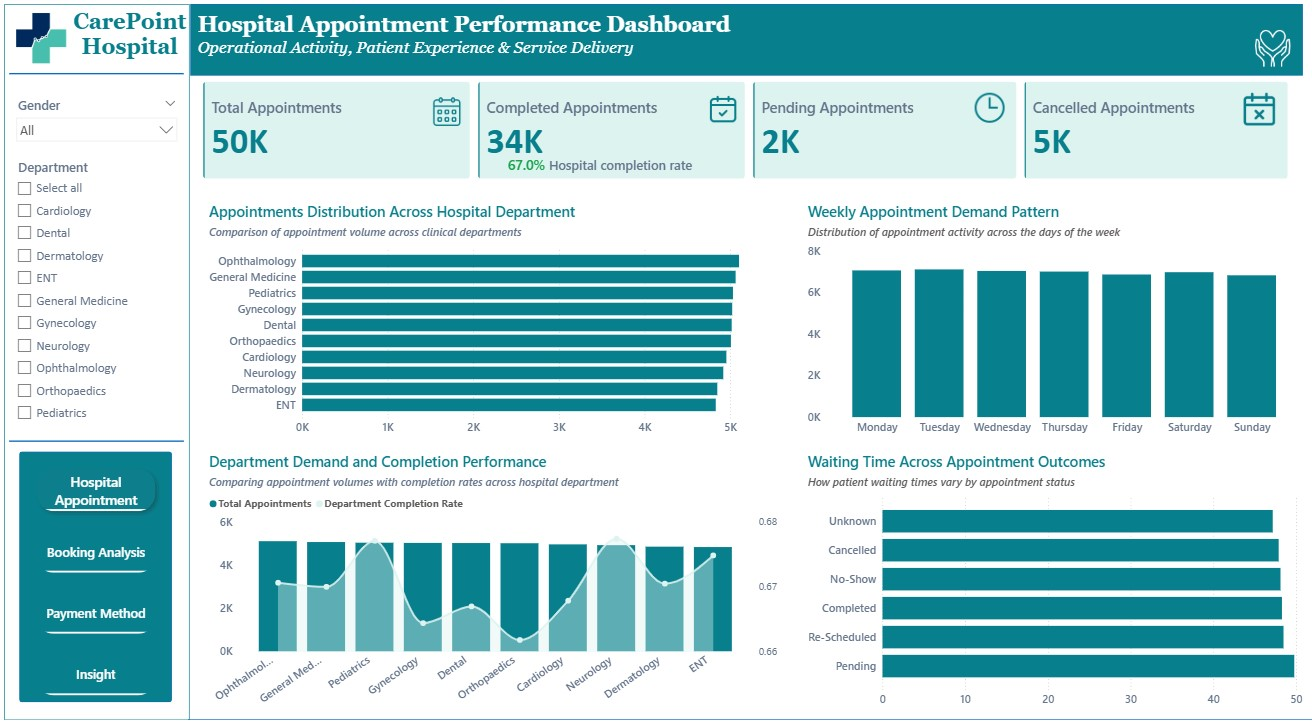

What the dashboard file says about the page in this screenshot:
{"tool":"powerbi","page":{"name":"Hospital Appointment","canvas":[1950,1080],"ordinal":0},"visuals":[{"type":"shape","box":[9,15,272,1051],"z":0},{"type":"textbox","box":[97,16,192,112],"z":1000},{"type":"shape","box":[282,15,1632,105],"z":2000},{"type":"image","box":[13,18,100,96],"z":3000},{"type":"textbox","box":[288,22,816,80],"z":4000},{"type":"shape","box":[16,640,256,32],"z":5000},{"type":"image","box":[1831,48,80,64],"z":6000},{"type":"shape","box":[16,101,256,32],"z":7000},{"type":"cardVisual","fields":{"Data":["public hospital_appointments.Total Appointments"]},"box":[284,112,425,176],"z":8000},{"type":"shape","box":[32,672,224,368],"z":9000},{"type":"pageNavigator","box":[47,688,192,352],"z":10000},{"type":"slicer","fields":{"Values":["public hospital_appointments.department"]},"box":[16,236,256,411],"z":11000},{"type":"slicer","fields":{"Values":["public hospital_appointments.gender"]},"box":[16,144,256,80],"z":12000},{"type":"cardVisual","fields":{"Data":["public hospital_appointments.Completed Appointments"]},"box":[688,112,425,176],"z":13000},{"type":"cardVisual","fields":{"Data":["public hospital_appointments.Pending Appointments"]},"box":[1092,112,420,176],"z":14000},{"type":"cardVisual","fields":{"Data":["public hospital_appointments.Cancelled Appointments"]},"box":[1490,112,420,176],"z":15000},{"type":"barChart","title":"Appointments Distribution Across Hospital Department","fields":{"Category":["public hospital_appointments.department"],"Y":["CountNonNull(hospital_appointments.appointment_id)"]},"box":[304,304,848,352],"z":16000},{"type":"clusteredBarChart","title":"Waiting Time Across Appointment Outcomes","fields":{"Y":["Avg(public hospital_appointments.waiting_time_minutes)"],"Category":["hospital_appointments.appointment_status"]},"box":[1184,672,736,384],"z":18000},{"type":"columnChart","title":"Weekly Appointment Demand Pattern","fields":{"Y":["CountNonNull(public hospital_appointments.appointment_id)"],"Category":["hospital_appointments.Day of Week"]},"box":[1184,304,736,352],"z":19000},{"type":"lineClusteredColumnComboChart","title":"Department Demand and Completion Performance","fields":{"Category":["public hospital_appointments.department"],"Y":["hospital_appointments.Total Appointments"],"Y2":["hospital_appointments.Department Completion Rate"]},"box":[304,672,848,384],"z":20000},{"type":"shape","box":[279,1052,1671,25],"z":21000},{"type":"cardVisual","fields":{"Data":["hospital_appointments.Department Completion Rate"]},"box":[719,220,113,56],"z":22000},{"type":"textbox","box":[803,233,240,48],"z":23000},{"type":"image","box":[634,148,48,48],"z":24000},{"type":"image","box":[1040,144,48,48],"z":25000},{"type":"image","box":[1430,144,48,44],"z":26000},{"type":"image","box":[1826,144,48,48],"z":27000}]}

Visuals, with their boxes in screenshot pixels (x1, y1, x2, y2), scaled from the page's 1950x1080 canvas onto the 1312x722 screenshot:
shape: locate(6, 10, 189, 713)
textbox: locate(65, 11, 194, 86)
shape: locate(190, 10, 1288, 80)
image: locate(9, 12, 76, 76)
textbox: locate(194, 15, 743, 68)
shape: locate(11, 428, 183, 449)
image: locate(1232, 32, 1286, 75)
shape: locate(11, 68, 183, 89)
cardVisual - public hospital_appointments.Total Appointments: locate(191, 75, 477, 193)
shape: locate(22, 449, 172, 695)
pageNavigator: locate(32, 460, 161, 695)
slicer - public hospital_appointments.department: locate(11, 158, 183, 433)
slicer - public hospital_appointments.gender: locate(11, 96, 183, 150)
cardVisual - public hospital_appointments.Completed Appointments: locate(463, 75, 749, 193)
cardVisual - public hospital_appointments.Pending Appointments: locate(735, 75, 1017, 193)
cardVisual - public hospital_appointments.Cancelled Appointments: locate(1003, 75, 1285, 193)
"Appointments Distribution Across Hospital Department" barChart: locate(205, 203, 775, 439)
"Waiting Time Across Appointment Outcomes" clusteredBarChart: locate(797, 449, 1292, 706)
"Weekly Appointment Demand Pattern" columnChart: locate(797, 203, 1292, 439)
"Department Demand and Completion Performance" lineClusteredColumnComboChart: locate(205, 449, 775, 706)
shape: locate(188, 703, 1311, 720)
cardVisual - hospital_appointments.Department Completion Rate: locate(484, 147, 560, 185)
textbox: locate(540, 156, 702, 188)
image: locate(427, 99, 459, 131)
image: locate(700, 96, 732, 128)
image: locate(962, 96, 994, 126)
image: locate(1229, 96, 1261, 128)
